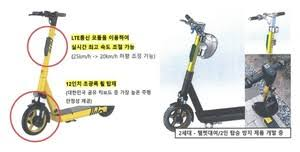kick_handler: (249, 11, 285, 27), (28, 10, 65, 25)
kick_wheel: (21, 102, 48, 135)
